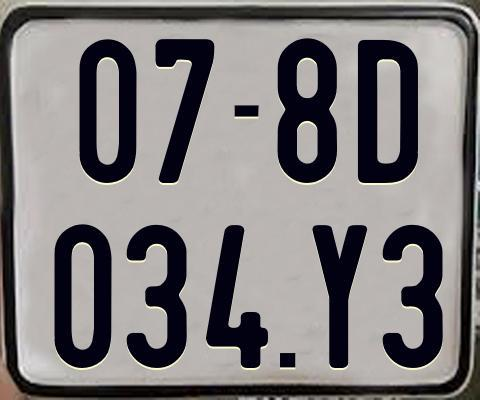0: (77, 38, 139, 186), (53, 224, 113, 371)
3: (127, 223, 193, 371), (381, 224, 446, 371)
4: (203, 223, 271, 367)
7: (153, 38, 219, 187)
8: (277, 38, 341, 186)
D: (356, 39, 422, 186)
Y: (309, 223, 364, 372)
